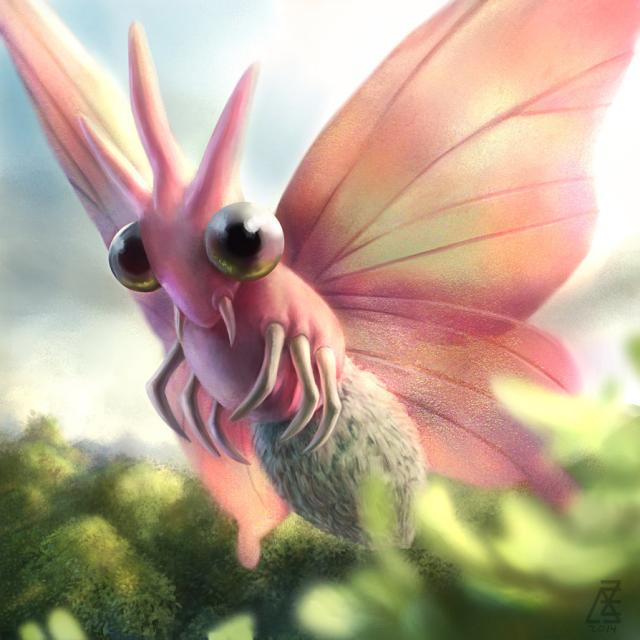Venomoth: (94, 57, 555, 533)
